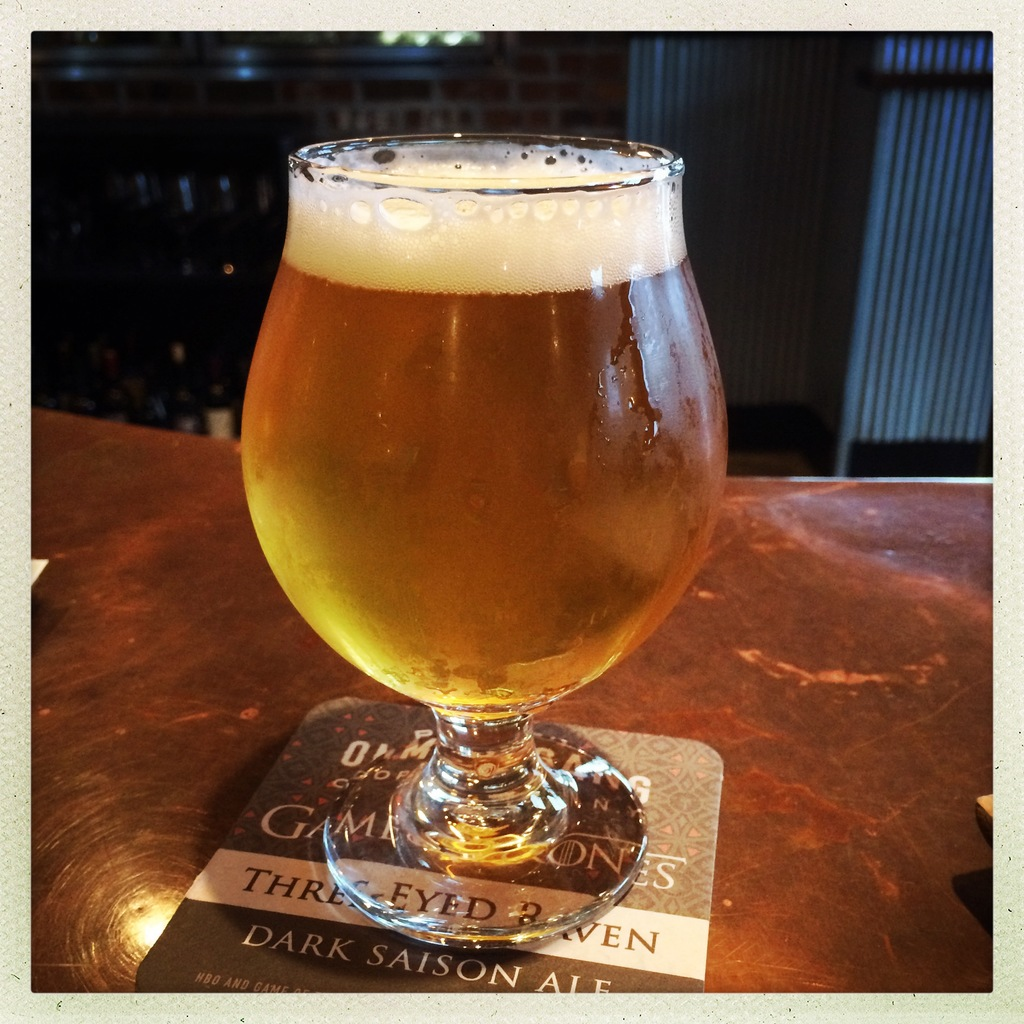Beer: (244, 133, 722, 947)
